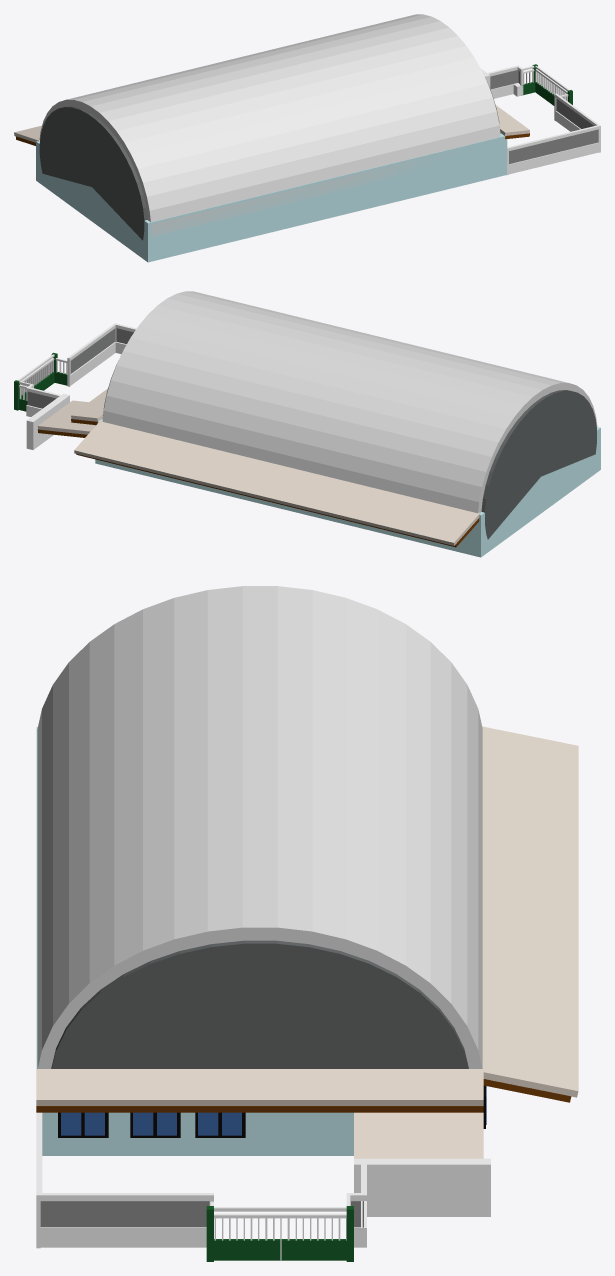
File: Factory.glb
3 renders of one model, top to bottom at view 1: azimuth 30°, elevation 25°; view 2: azimuth 150°, elevation 25°; view 3: azimuth 270°, elevation 25°, orthographic. The views are drawn at different scales.
Visible parts, largest first — view 1: cylinder.001; view 2: cylinder.001; view 3: cylinder.001.
Boxes of the visible parts, x1=… form: cylinder.001: x1=14, y1=14, x2=600, y2=262; cylinder.001: x1=14, y1=291, x2=600, y2=557; cylinder.001: x1=36, y1=586, x2=578, y2=1261.
Bounding box in the file's own units: 9.36 × 2.13 × 4.7.
10 materials, 10 textured.
